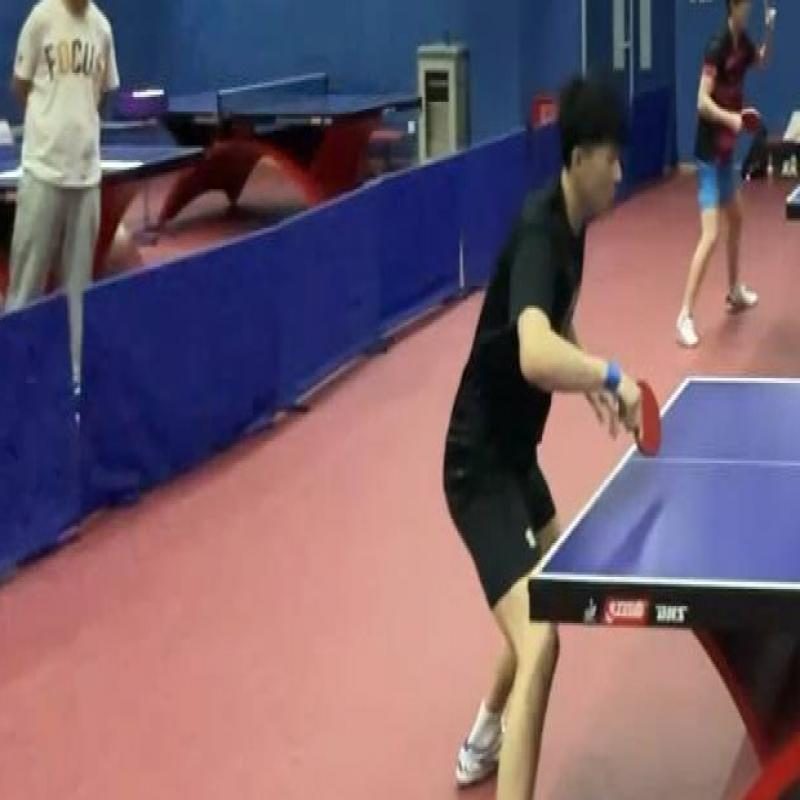bats: (615, 366, 671, 468)
